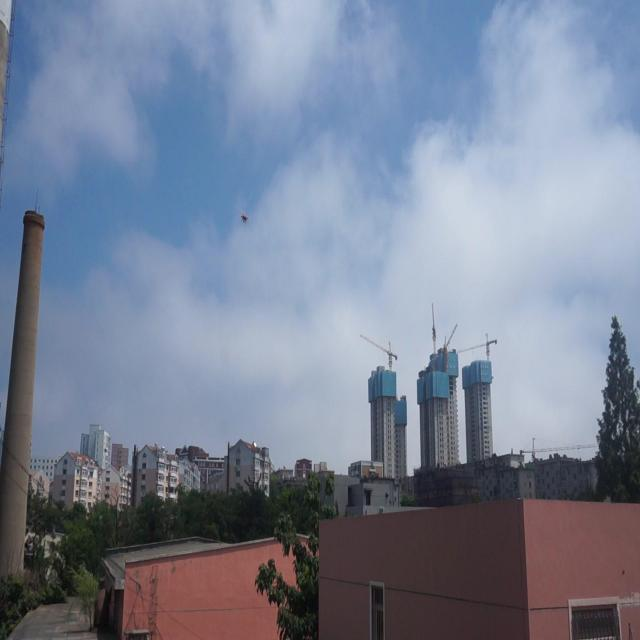UAV: (240, 209, 250, 225)
